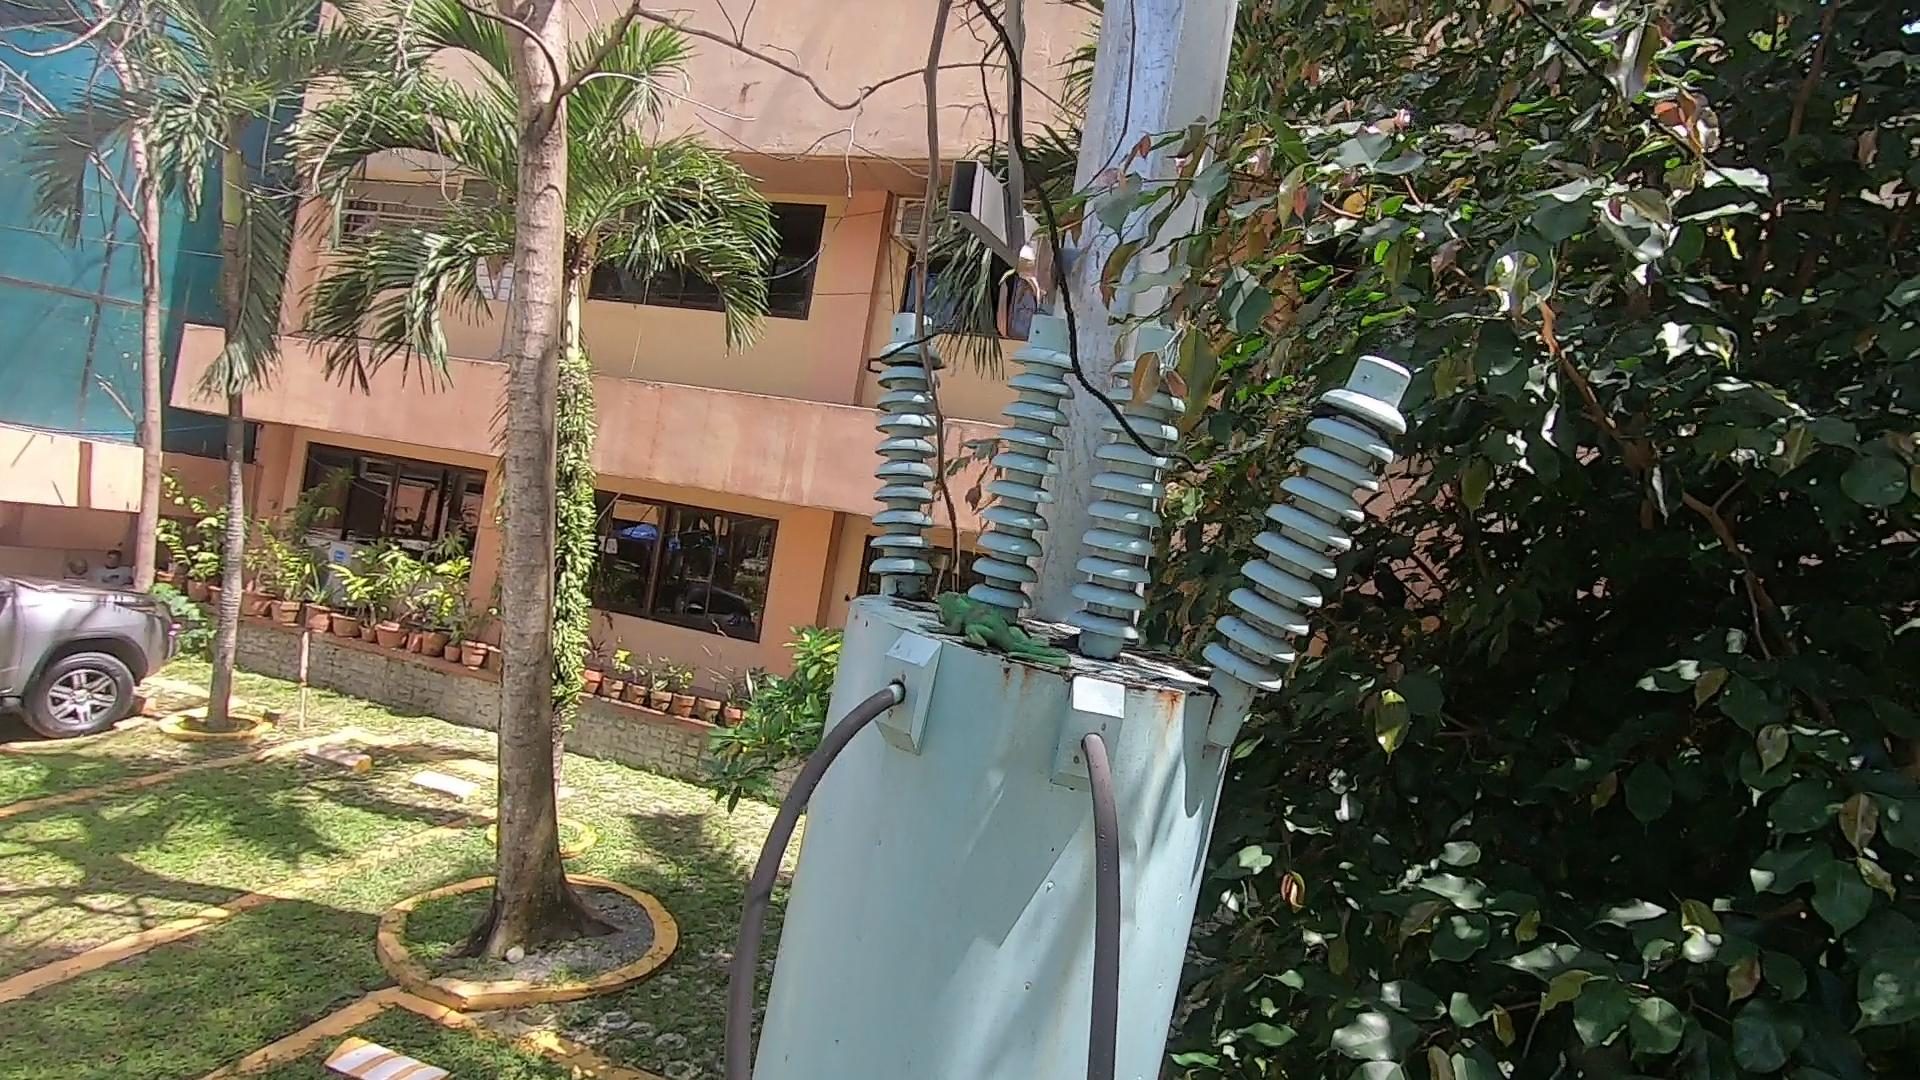branch with leaves: (1101, 229, 1298, 444)
leaf: (1122, 637, 1211, 682), (1042, 618, 1087, 651), (887, 582, 936, 609)
tree branch: (894, 3, 1019, 618)
